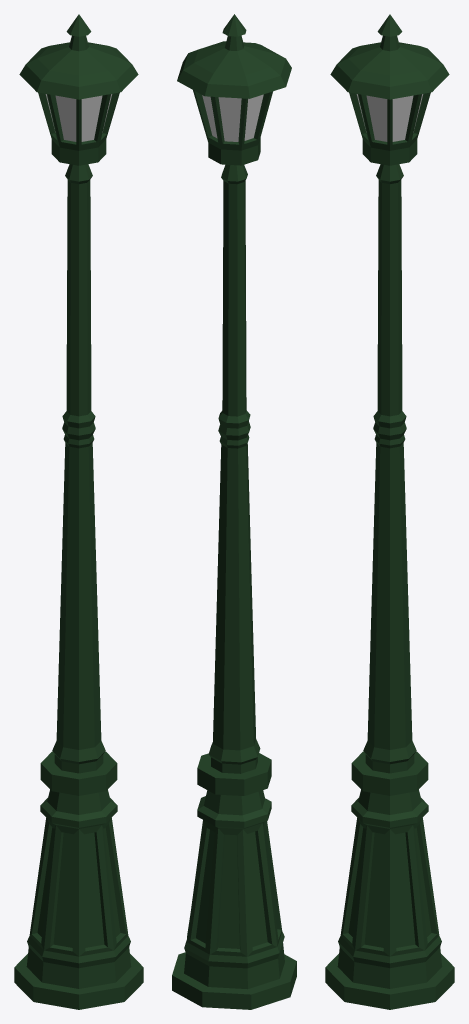
Rendered from Streetlight_Single.glb.
The picture shows the model from 3 angles, left to right: view 1: azimuth 90°, elevation 25°; view 2: azimuth 150°, elevation 25°; view 3: azimuth 270°, elevation 25°; orthographic projection.
Parts seen in each view (by area): view 1: Streetlight_Single.obj; view 2: Streetlight_Single.obj; view 3: Streetlight_Single.obj.
Boxes of the visible parts, x1,y1,x2,y2 form: Streetlight_Single.obj: (14,14,143,1009); Streetlight_Single.obj: (172,14,296,1009); Streetlight_Single.obj: (325,14,454,1009).
Size of the model in its own units: 0.1317 by 1.09 by 0.1317.
